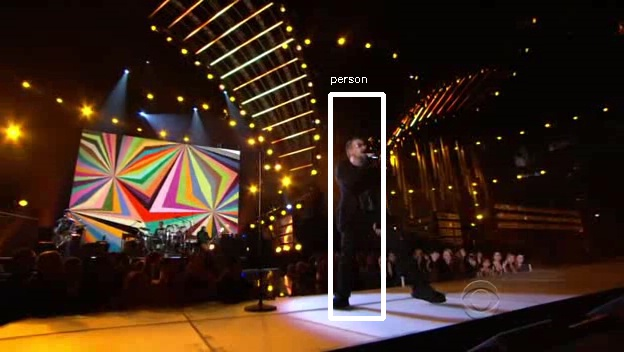person: (335, 138, 400, 244), (332, 138, 397, 244), (338, 138, 403, 244), (335, 135, 400, 241), (335, 141, 400, 247)
target_negative: (118, 152, 551, 278), (38, 139, 477, 194), (66, 86, 115, 280), (410, 82, 418, 107), (613, 160, 614, 343), (600, 295, 611, 306)
